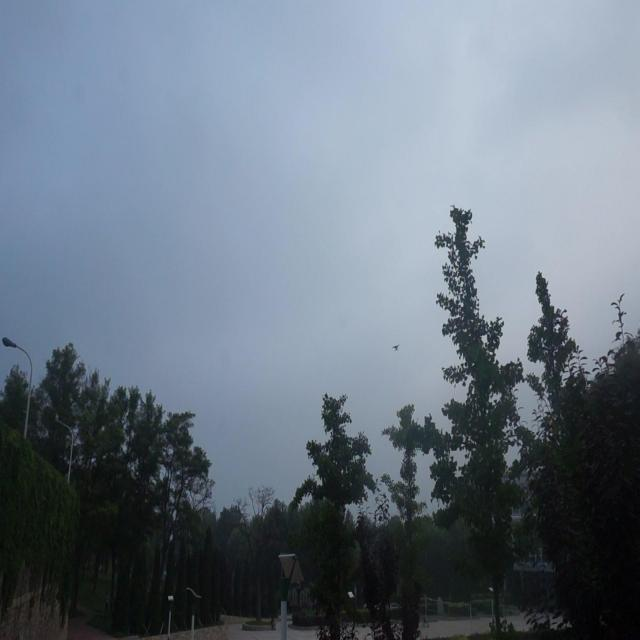UAV: (392, 344, 400, 352)
